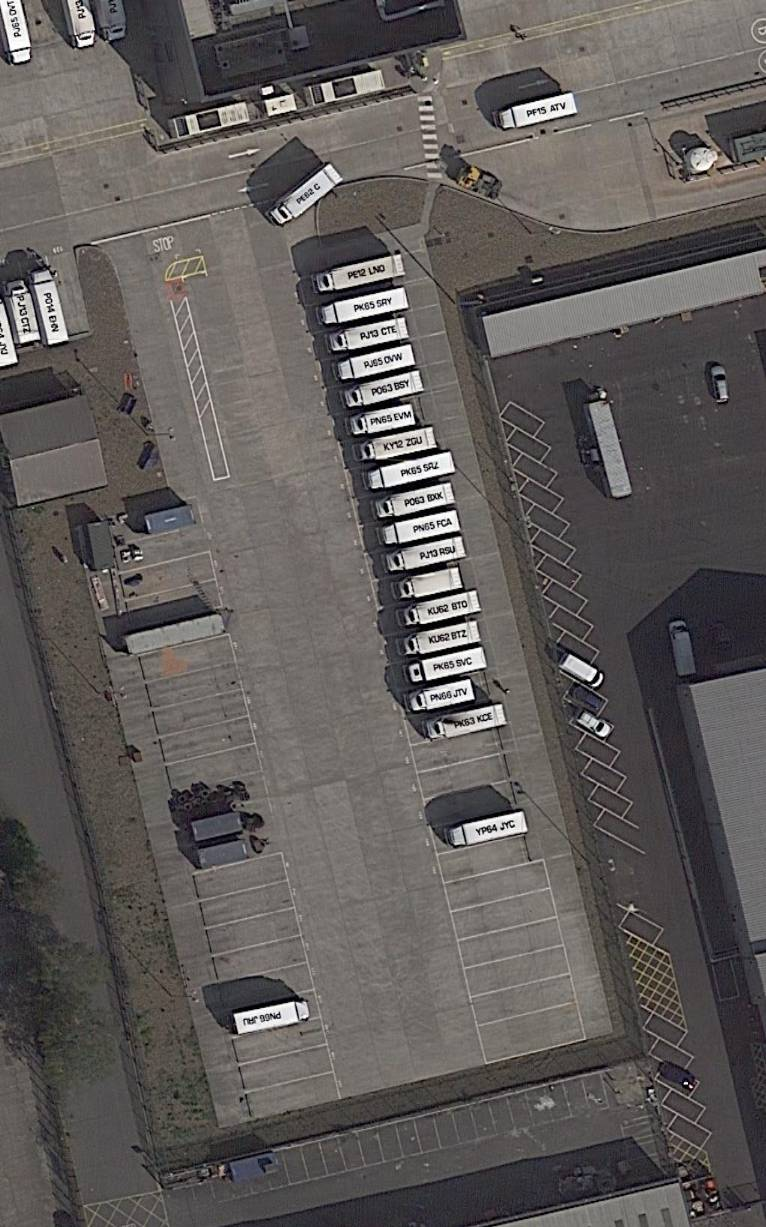large vehicle: (263, 159, 345, 232), (361, 448, 458, 495), (312, 285, 410, 331), (312, 251, 407, 297), (491, 88, 581, 135), (352, 422, 440, 468), (443, 807, 531, 853), (25, 266, 72, 352), (370, 479, 459, 524), (340, 367, 428, 412), (301, 68, 388, 113), (333, 341, 419, 386), (165, 98, 252, 142), (421, 701, 510, 744), (383, 533, 469, 577), (395, 617, 483, 660), (403, 644, 489, 688), (396, 587, 483, 630), (324, 315, 412, 357), (377, 508, 463, 549), (231, 997, 312, 1038), (390, 564, 466, 606), (403, 676, 477, 717), (1, 275, 41, 347), (348, 401, 419, 439)
small vehicle: (666, 615, 701, 681), (556, 649, 607, 693), (571, 705, 616, 743), (567, 680, 609, 716), (657, 1058, 700, 1093), (709, 364, 733, 405)
